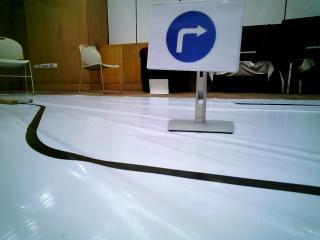right: (156, 1, 231, 64)
